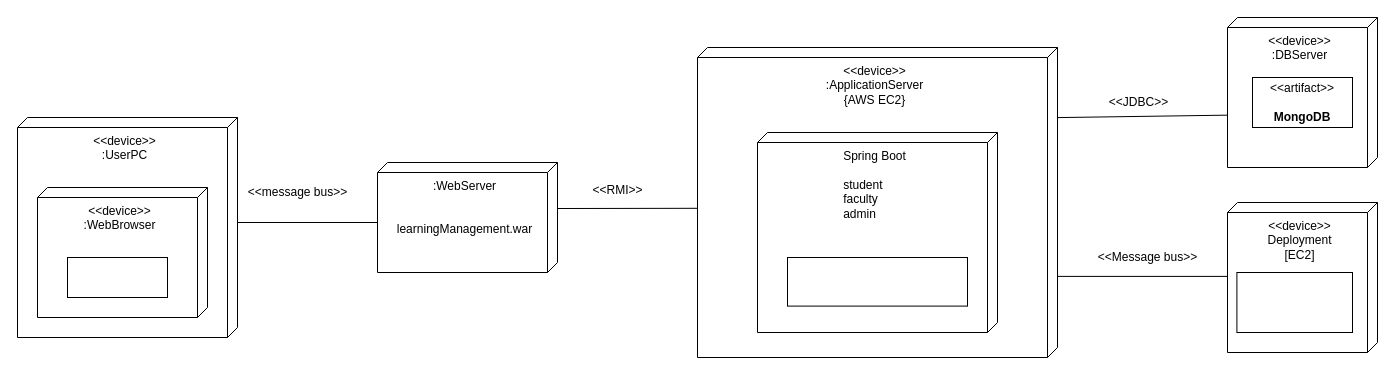
This 1395x375 diagram has some shape labels left out. The centre of each missing label's shape, as x and y in pixels:
"<<artifact>> app.jar" belongs at (x=877, y=281).
"<<artifact>> HTML5" belongs at (x=117, y=277).
"app.war" belongs at (x=1294, y=302).
